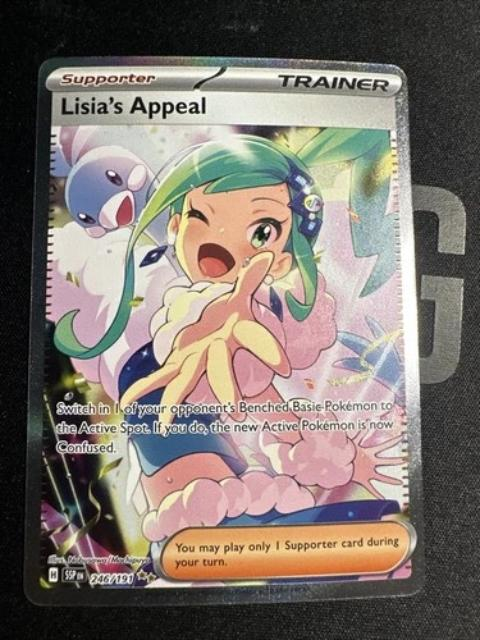Card: (18, 52, 432, 610)
Name: (56, 92, 212, 122)
